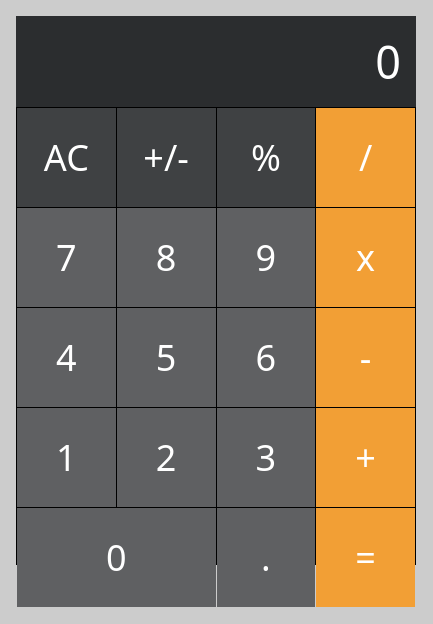
it: adds 19 and -0 together
This screenshot has width=433, height=624.
Click the button with test id "number-1".
click(66, 458)  # box 17,408 -> 116,507
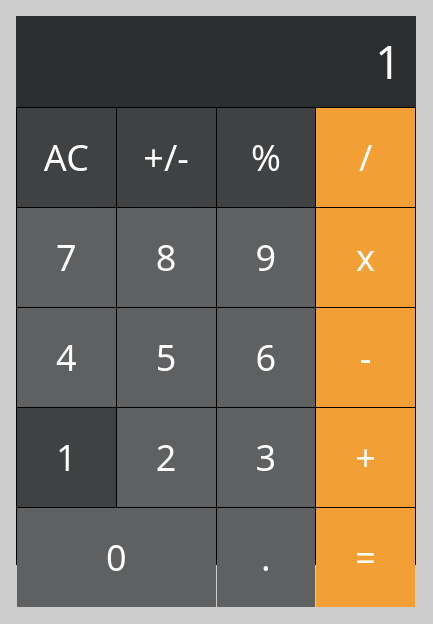
Click the button with test id "number-9".
click(266, 258)  # box 216,208 -> 315,307
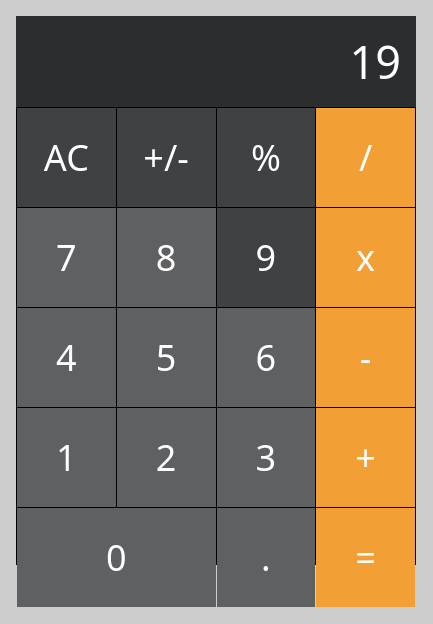
Click the button with test id "operator-+".
click(366, 458)  # box 316,408 -> 415,507
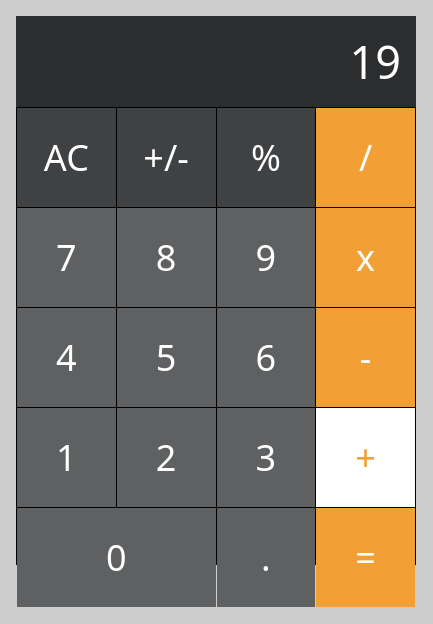
Click the button with test id "number-0".
click(116, 558)  # box 17,508 -> 216,607
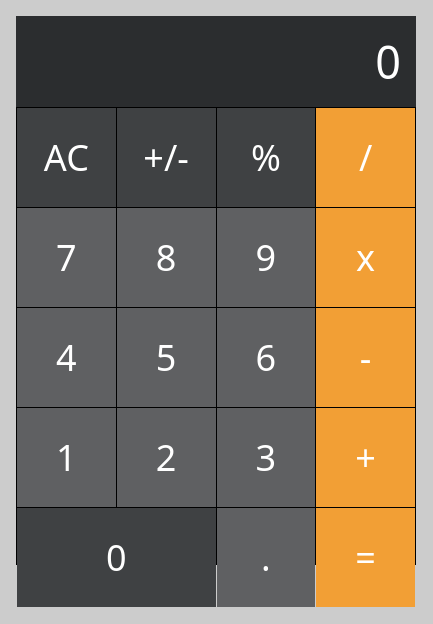
Click the button with test id "operator-=".
click(366, 558)  # box 316,508 -> 415,607
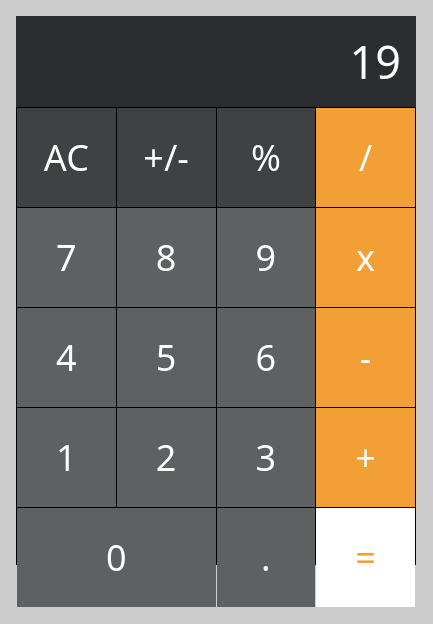
Result: the text with test id "total" reads "19" at 350,31 -> 401,92
